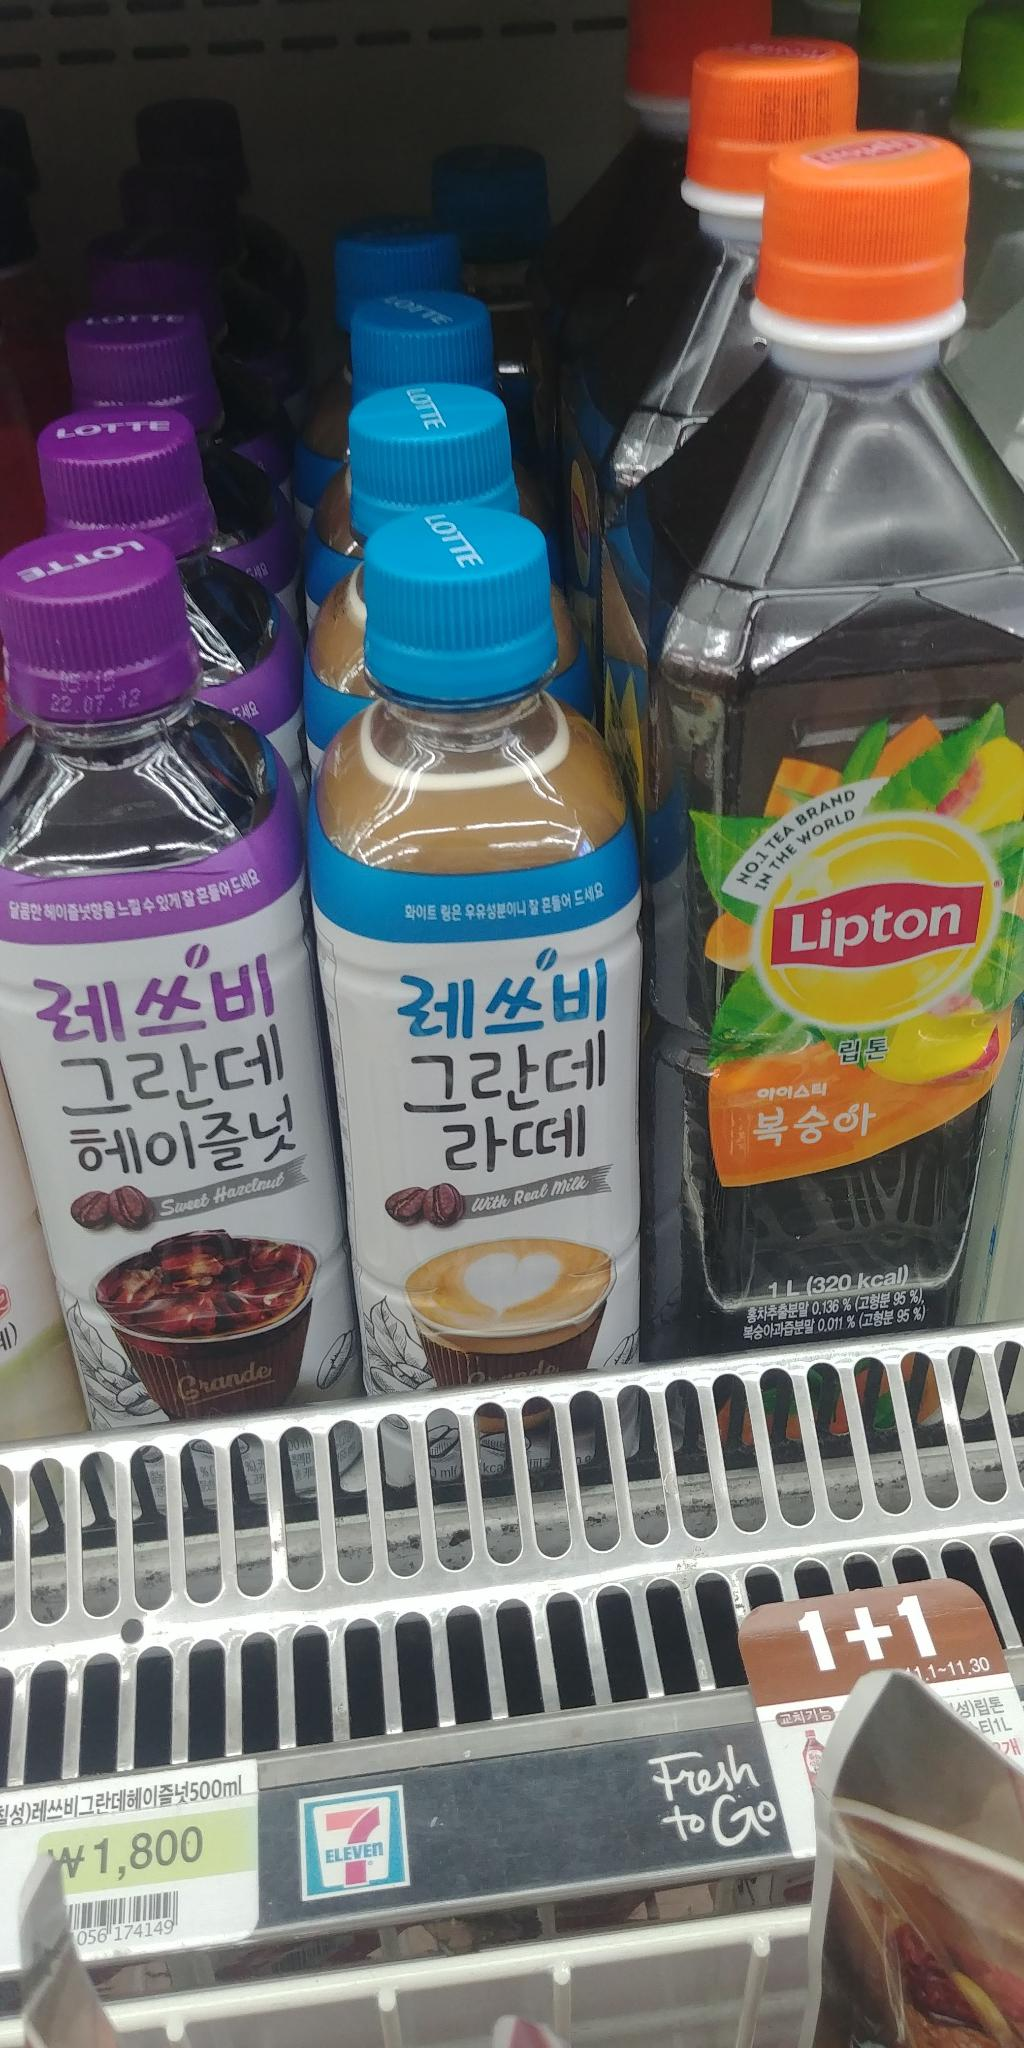letsbe_grande_hazelnut: (0, 529, 401, 1482)
